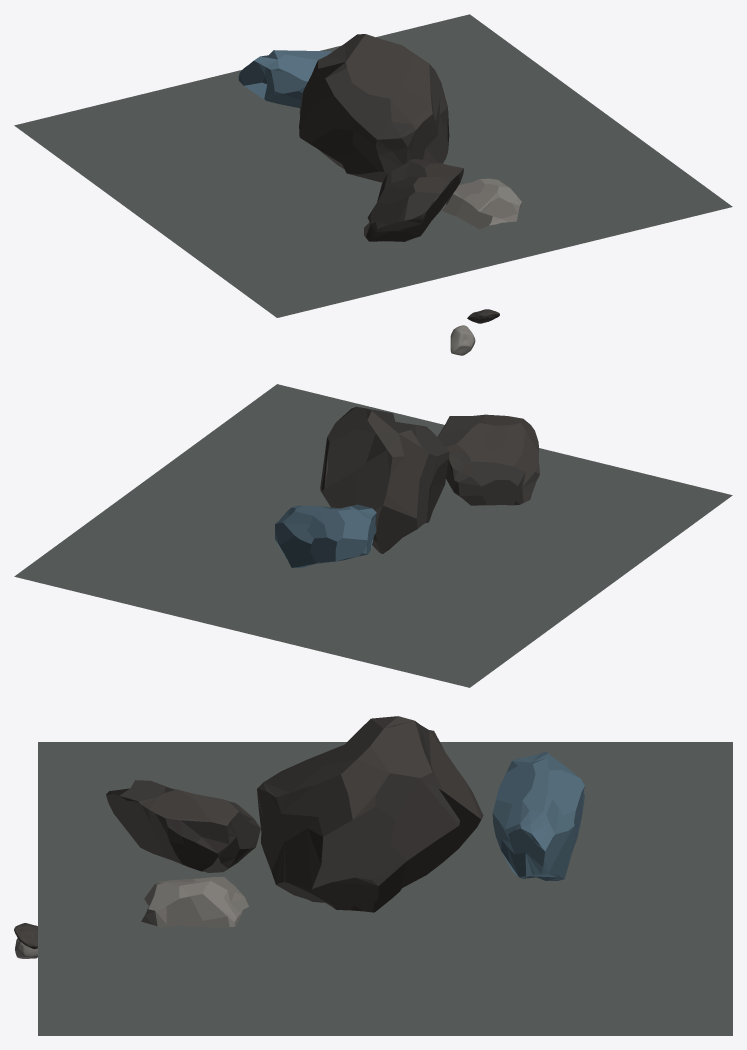
The model's file is rock.fbx.
3 renders of one model, top to bottom at view 1: azimuth 30°, elevation 25°; view 2: azimuth 150°, elevation 25°; view 3: azimuth 270°, elevation 25°, orthographic. The views are drawn at different scales.
Visible parts, largest first — view 1: Plane, Cube.002, Cube.005, Cube.003, Cube.004, Cube; view 2: Plane, Cube.002, Cube.005, Cube.003; view 3: Plane, Cube.002, Cube.005, Cube.003, Cube.004.
Boxes of the visible parts, bbox=[...] form: Plane: bbox=[14, 14, 732, 317]; Cube.002: bbox=[299, 34, 449, 182]; Cube.005: bbox=[364, 159, 463, 241]; Cube.003: bbox=[238, 50, 331, 108]; Cube.004: bbox=[442, 178, 521, 229]; Cube: bbox=[450, 325, 475, 355]; Plane: bbox=[14, 384, 732, 687]; Cube.002: bbox=[320, 406, 449, 553]; Cube.005: bbox=[437, 414, 539, 505]; Cube.003: bbox=[275, 504, 376, 567]; Plane: bbox=[38, 742, 732, 1035]; Cube.002: bbox=[257, 716, 483, 912]; Cube.005: bbox=[106, 780, 260, 872]; Cube.003: bbox=[492, 751, 584, 880]; Cube.004: bbox=[141, 877, 248, 927].
Size of the model in its own units: 2406 by 1041 by 2488.
